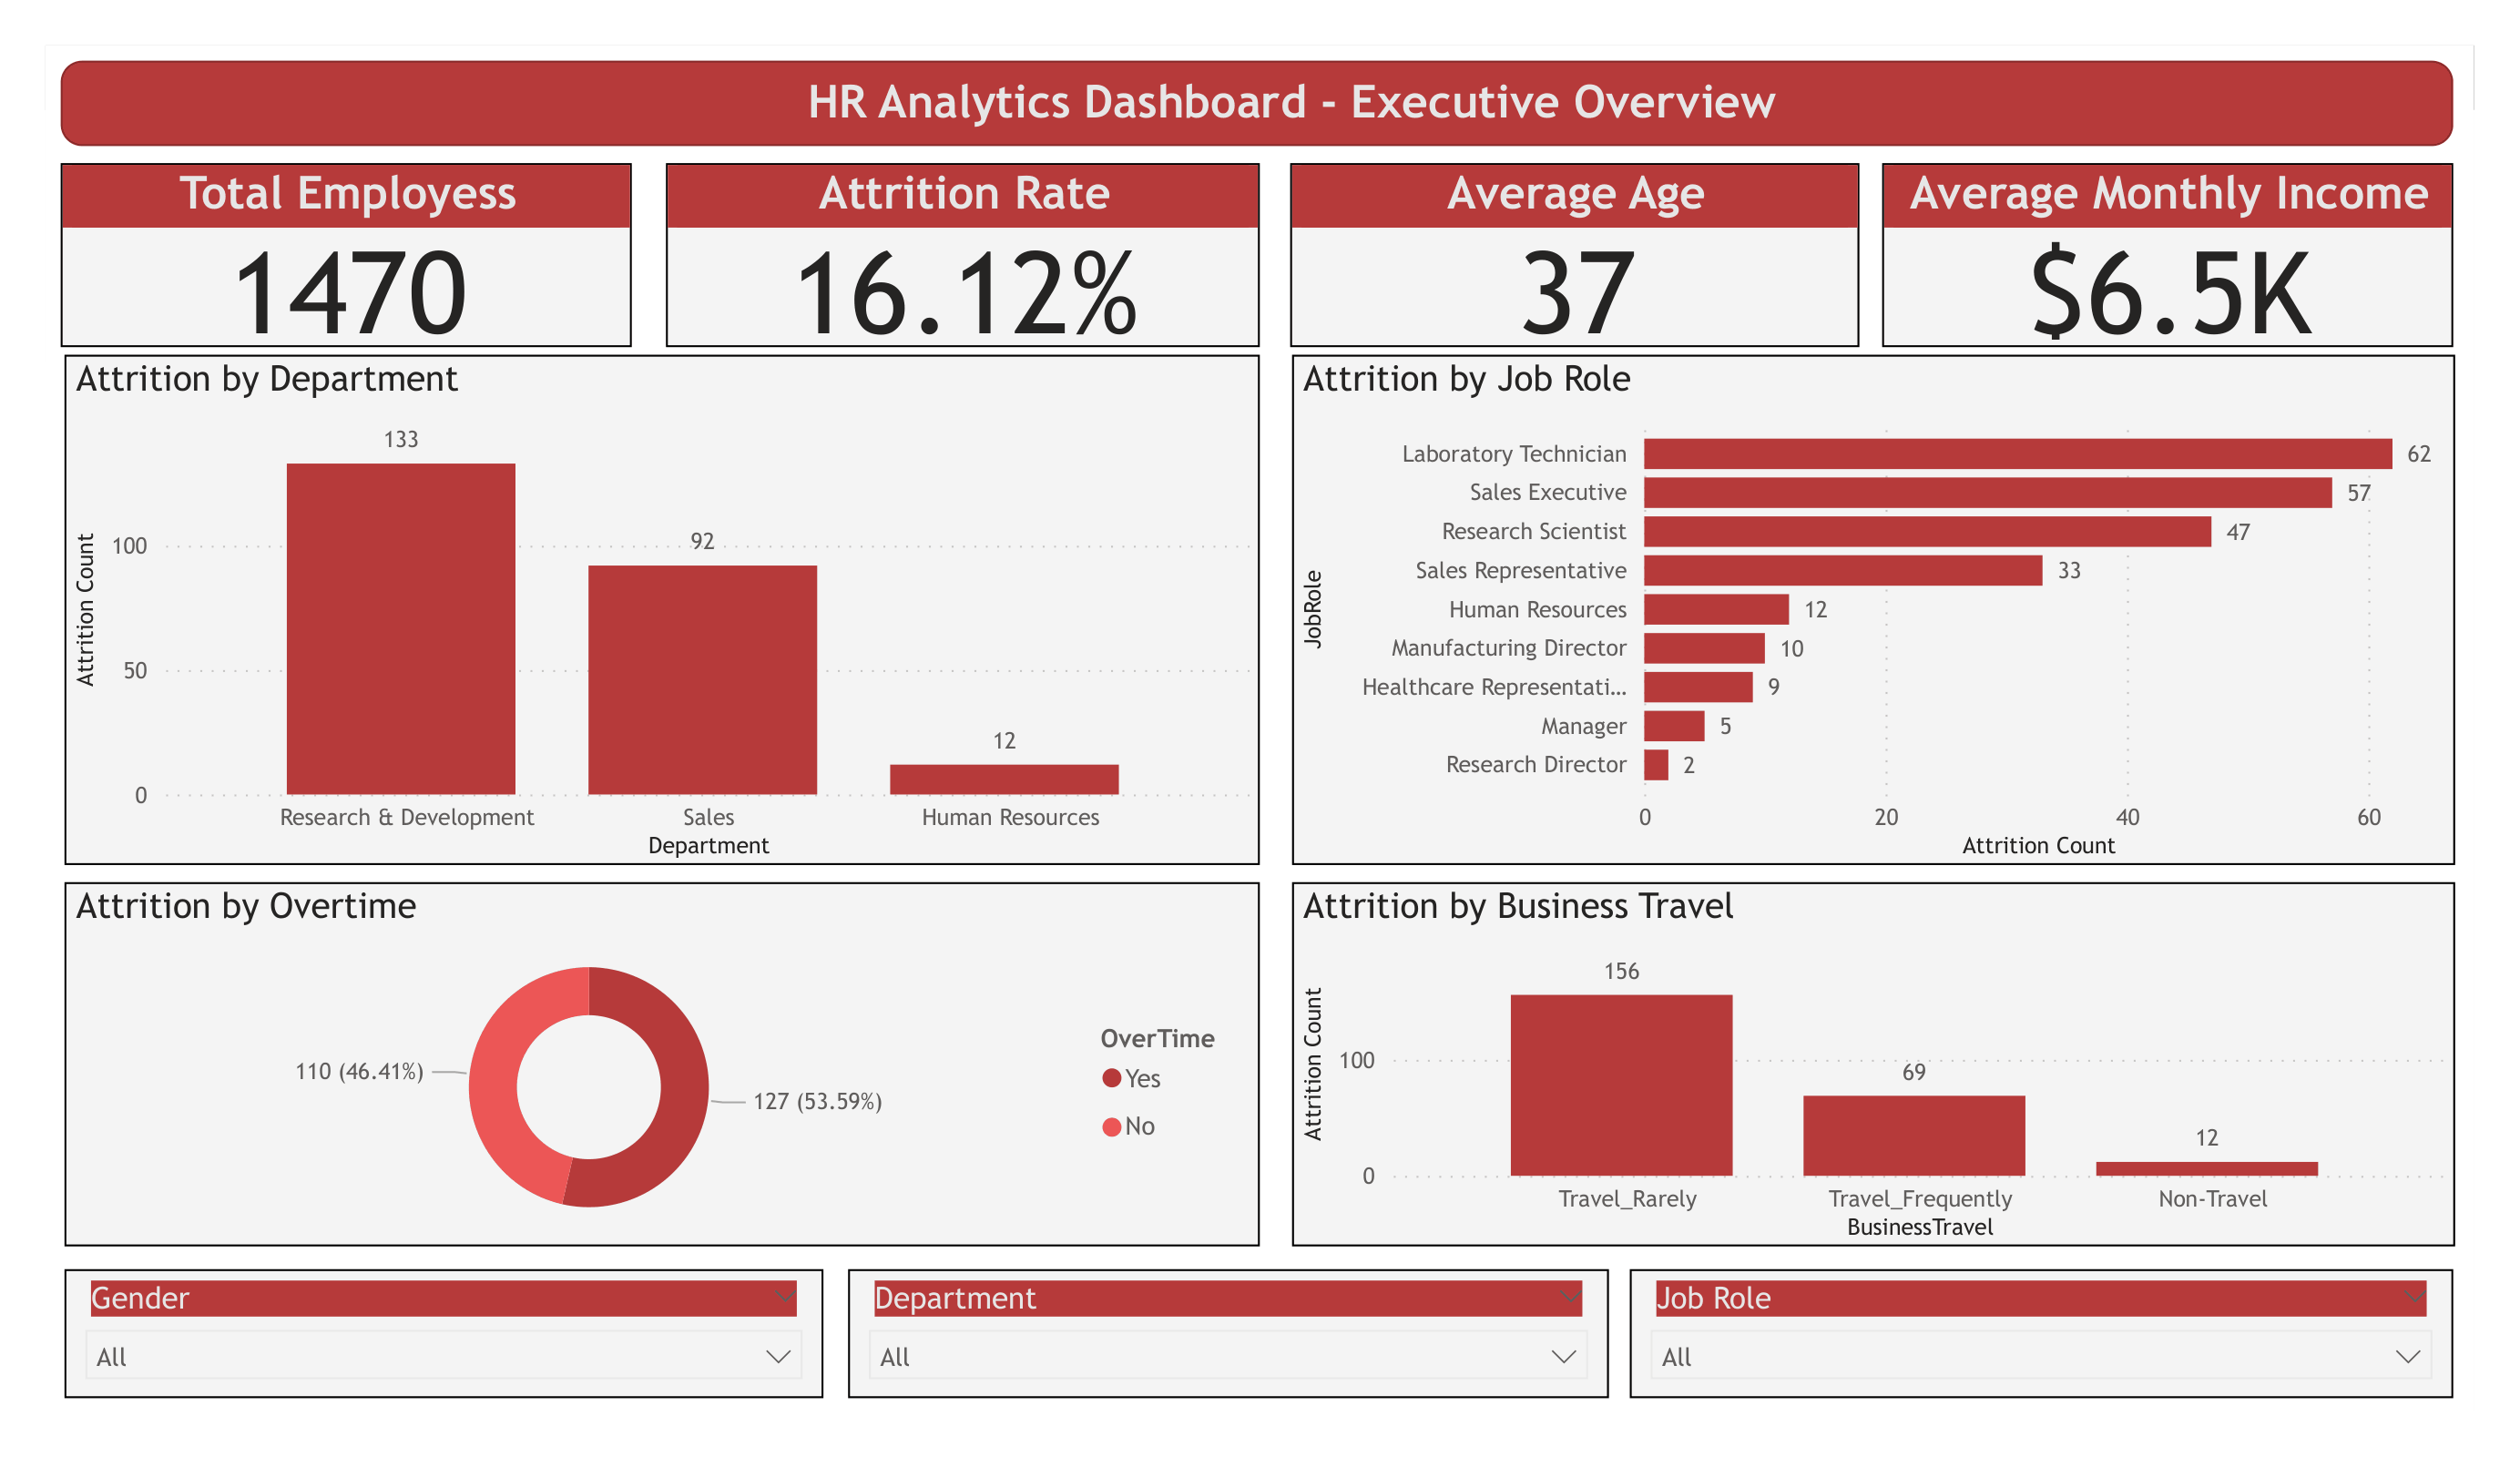

Layout of this report page (visuals, bound fields, positions):
{"tool":"powerbi","page":{"name":"Executive Overview","canvas":[1280,720],"ordinal":0},"visuals":[{"type":"card","title":"Total Employess","fields":{"Values":["clean_hr_attrition.Total Employees"]},"box":[8.4,61.5,300.3,97.7],"z":0},{"type":"card","title":"Attrition Rate","fields":{"Values":["clean_hr_attrition.Attrition Rate"]},"box":[326.8,61.5,313.6,97.7],"z":1000},{"type":"card","title":"Average Age","fields":{"Values":["clean_hr_attrition.Average Age"]},"box":[656.1,61.5,300.3,97.7],"z":2000},{"type":"card","title":"Average Monthly Income","fields":{"Values":["clean_hr_attrition.Average Monthly Income"]},"box":[968.4,61.5,300.3,97.7],"z":3000},{"type":"clusteredColumnChart","title":"Attrition by Department","fields":{"Category":["clean_hr_attrition.Department"],"Y":["clean_hr_attrition.Attrition Count"]},"box":[9.6,162.8,630.8,268.9],"z":4000},{"type":"clusteredBarChart","title":"Attrition by Job Role","fields":{"Category":["clean_hr_attrition.JobRole"],"Y":["clean_hr_attrition.Attrition Count"]},"box":[657.3,162.8,612.7,268.9],"z":5000},{"type":"donutChart","title":"Attrition by Overtime","fields":{"Category":["clean_hr_attrition.OverTime"],"Y":["clean_hr_attrition.Total Employees"]},"box":[9.6,441.4,630.8,191.8],"z":6000},{"type":"clusteredColumnChart","title":"Attrition by Business Travel","fields":{"Category":["clean_hr_attrition.BusinessTravel"],"Y":["clean_hr_attrition.Attrition Count"]},"box":[657.3,441.4,612.7,191.8],"z":7000},{"type":"slicer","fields":{"Values":["clean_hr_attrition.Department"]},"box":[423.3,645.2,400.4,67.5],"z":8000},{"type":"slicer","fields":{"Values":["clean_hr_attrition.Gender"]},"box":[9.6,645.2,400,67.5],"z":9000},{"type":"slicer","fields":{"Values":["clean_hr_attrition.JobRole"]},"box":[834.6,645.2,434.2,67.5],"z":10000},{"type":"shape","box":[8.4,8.4,1260.3,44.6],"z":11000},{"type":"textbox","box":[388.3,9.6,537.9,43.4],"z":12000}]}

Visuals, with their boxes in screenshot pixels (x1, y1, x2, y2):
"Total Employess" card: l=68, t=161, r=630, b=344
"Attrition Rate" card: l=665, t=161, r=1251, b=344
"Average Age" card: l=1281, t=161, r=1843, b=344
"Average Monthly Income" card: l=1866, t=161, r=2428, b=344
"Attrition by Department" clusteredColumnChart: l=70, t=351, r=1251, b=854
"Attrition by Job Role" clusteredBarChart: l=1283, t=351, r=2431, b=854
"Attrition by Overtime" donutChart: l=70, t=872, r=1251, b=1231
"Attrition by Business Travel" clusteredColumnChart: l=1283, t=872, r=2431, b=1231
slicer - clean_hr_attrition.Department: l=845, t=1254, r=1595, b=1381
slicer - clean_hr_attrition.Gender: l=70, t=1254, r=820, b=1381
slicer - clean_hr_attrition.JobRole: l=1616, t=1254, r=2429, b=1381
shape: l=68, t=62, r=2428, b=145
textbox: l=780, t=64, r=1787, b=145
